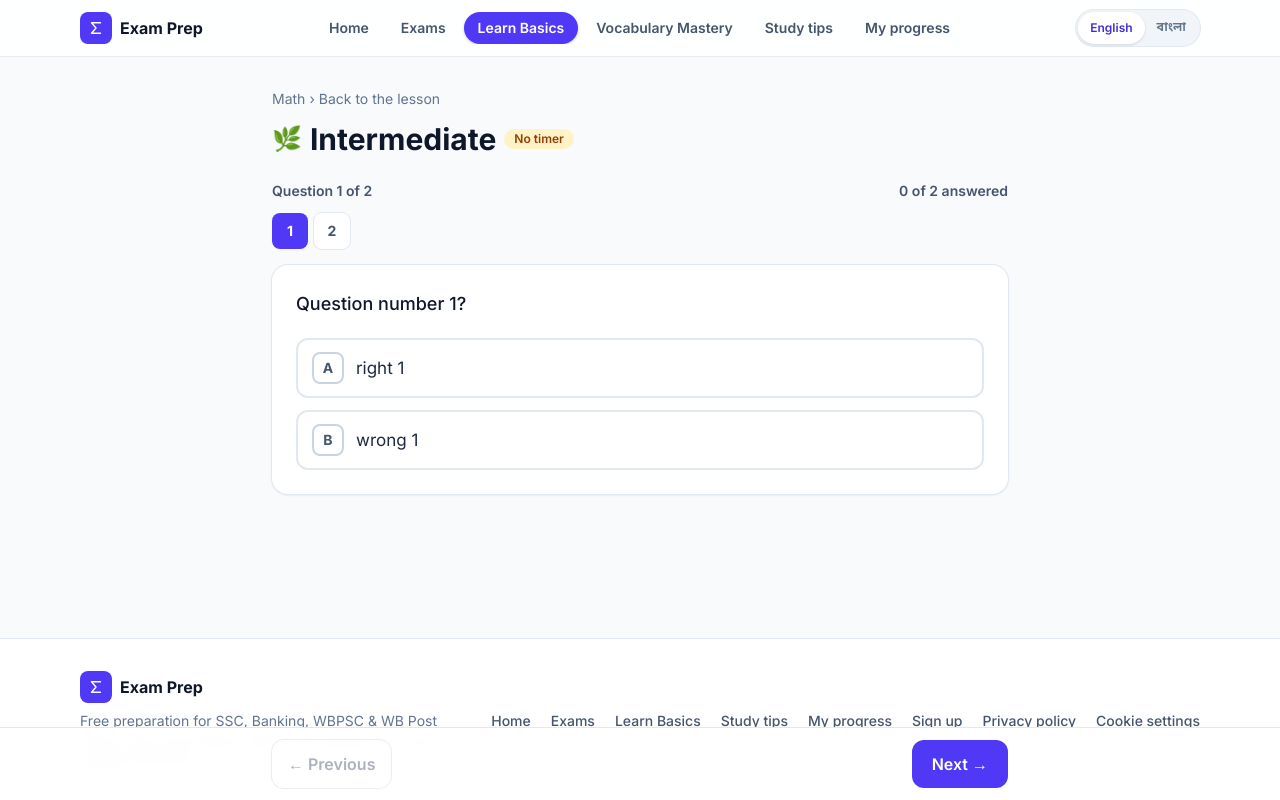
Test: learn › asks before finishing with unanswered questions
The width and height of the screenshot is (1280, 800).
Check: the text "Question number 1?" is shown, box [296,293,466,314]
Click the button "2": [332, 231] box [314,213,350,249]
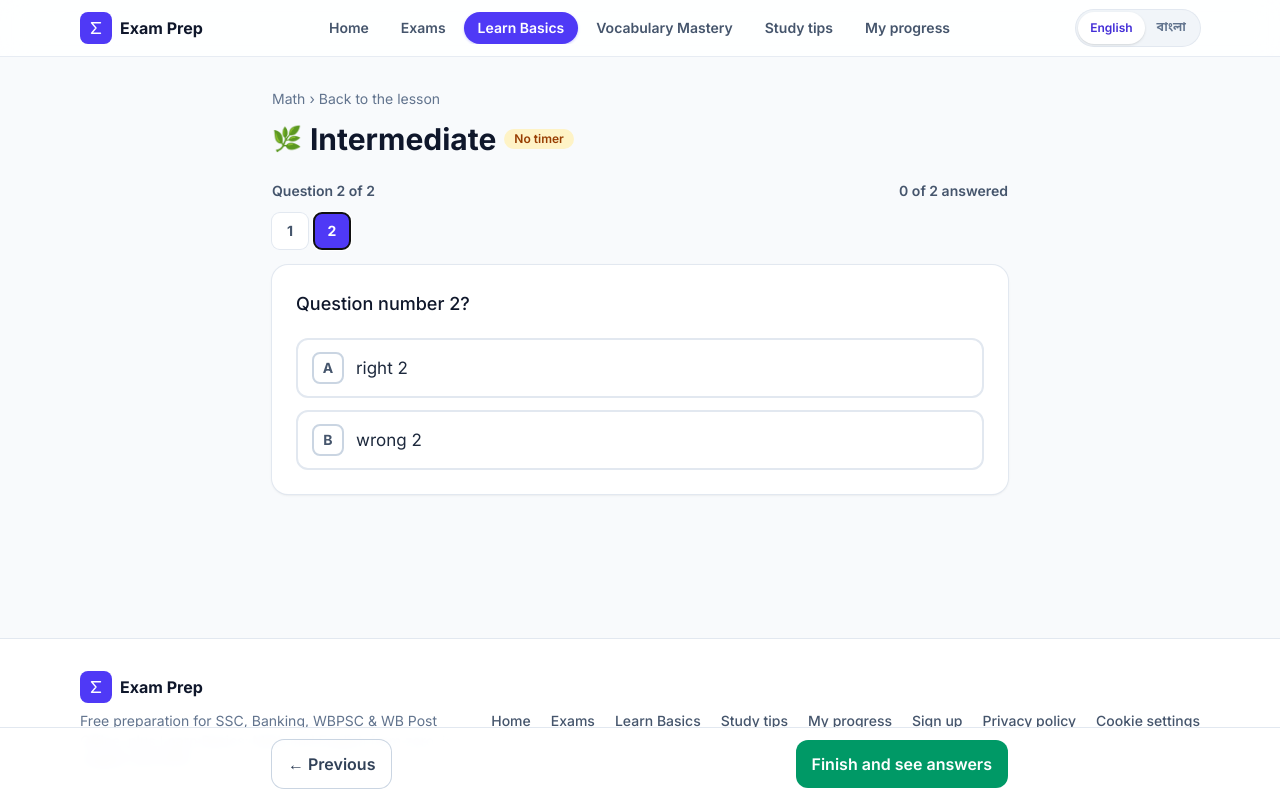
Click the button "Finish and see answers": [902, 764] box [796,740,1008,788]
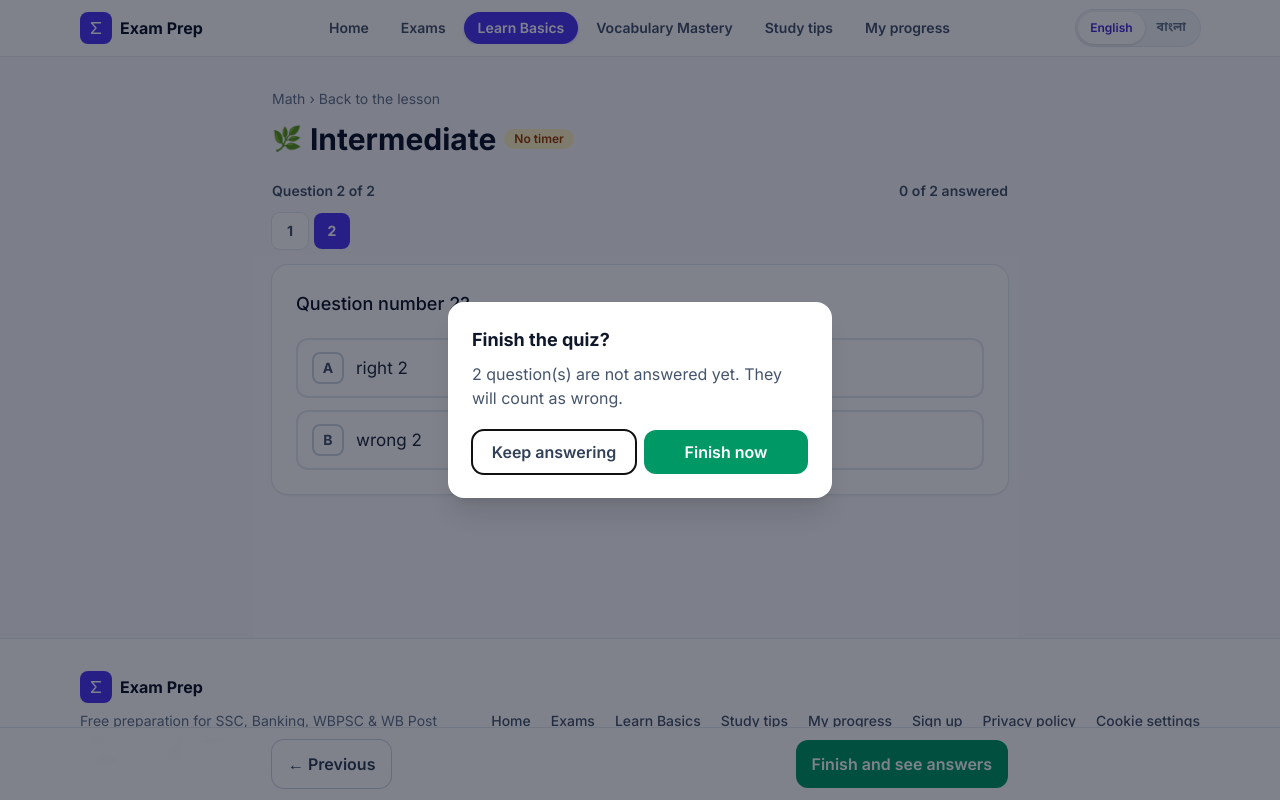
Check: the text "2 question(s) are not answered yet" is shown, box [472,364,782,408]
Click the button "Finish now": [726, 452] box [644,430,808,474]
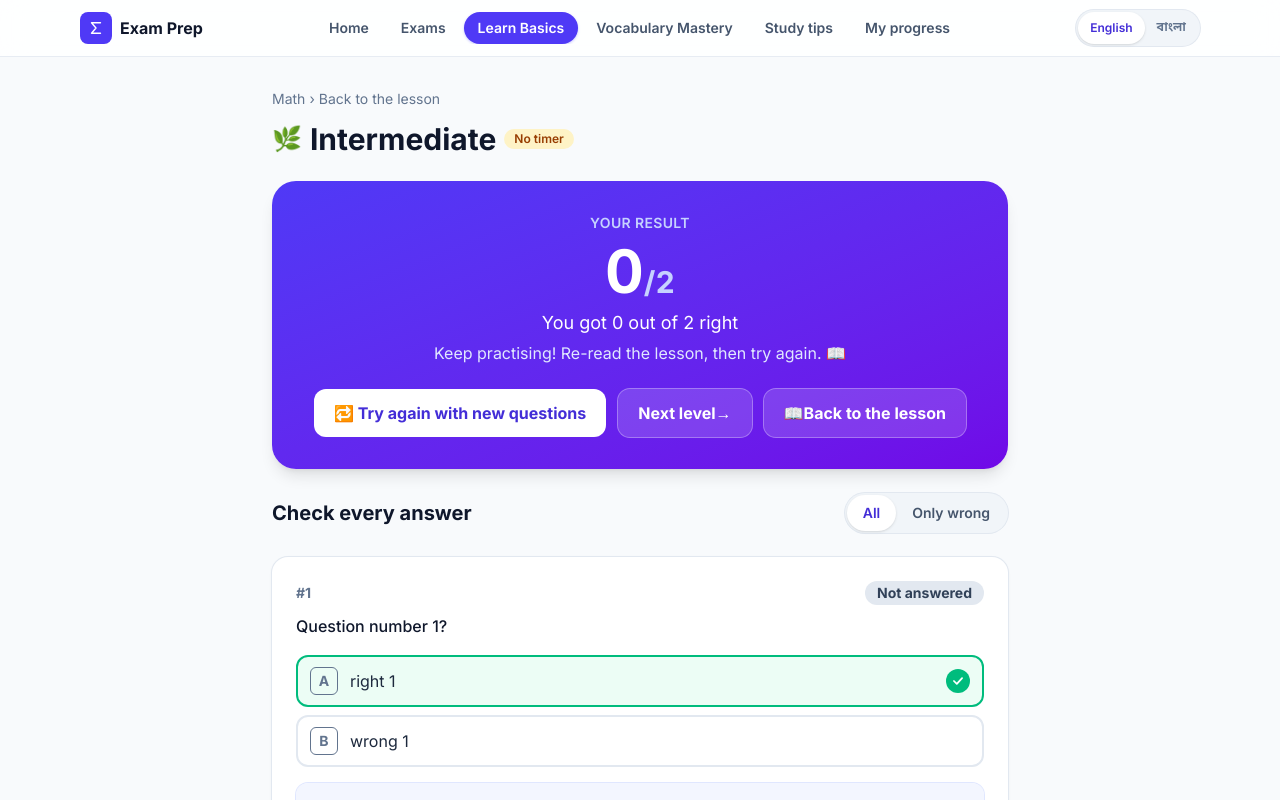
Check: the text "You got 0 out of 2 right" is shown, box [542,312,738,333]
